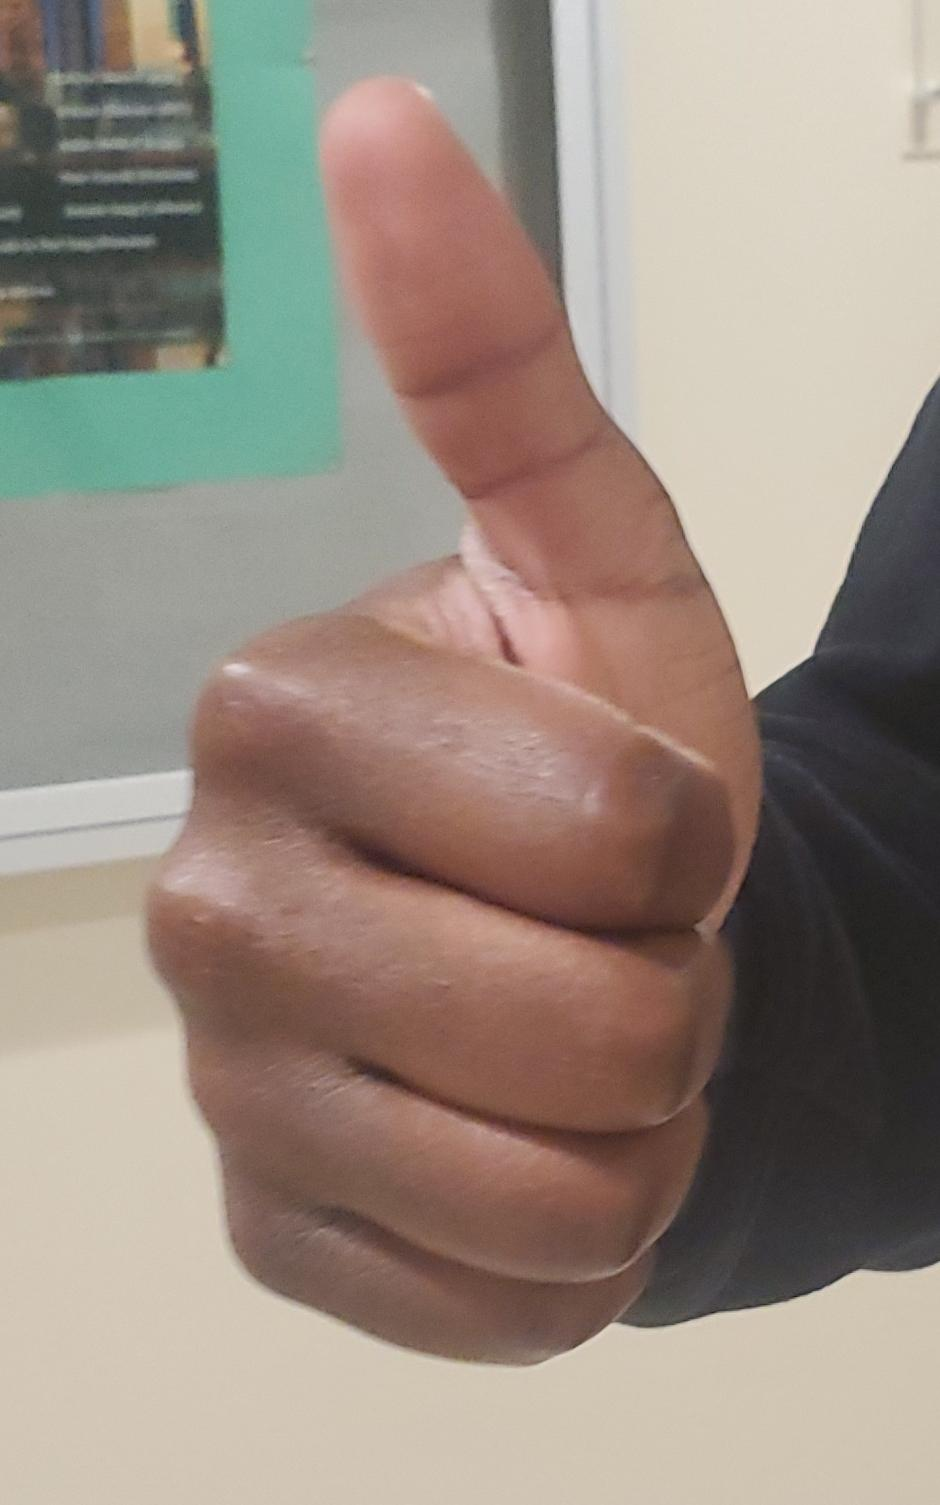up: (0, 1, 940, 1505)
